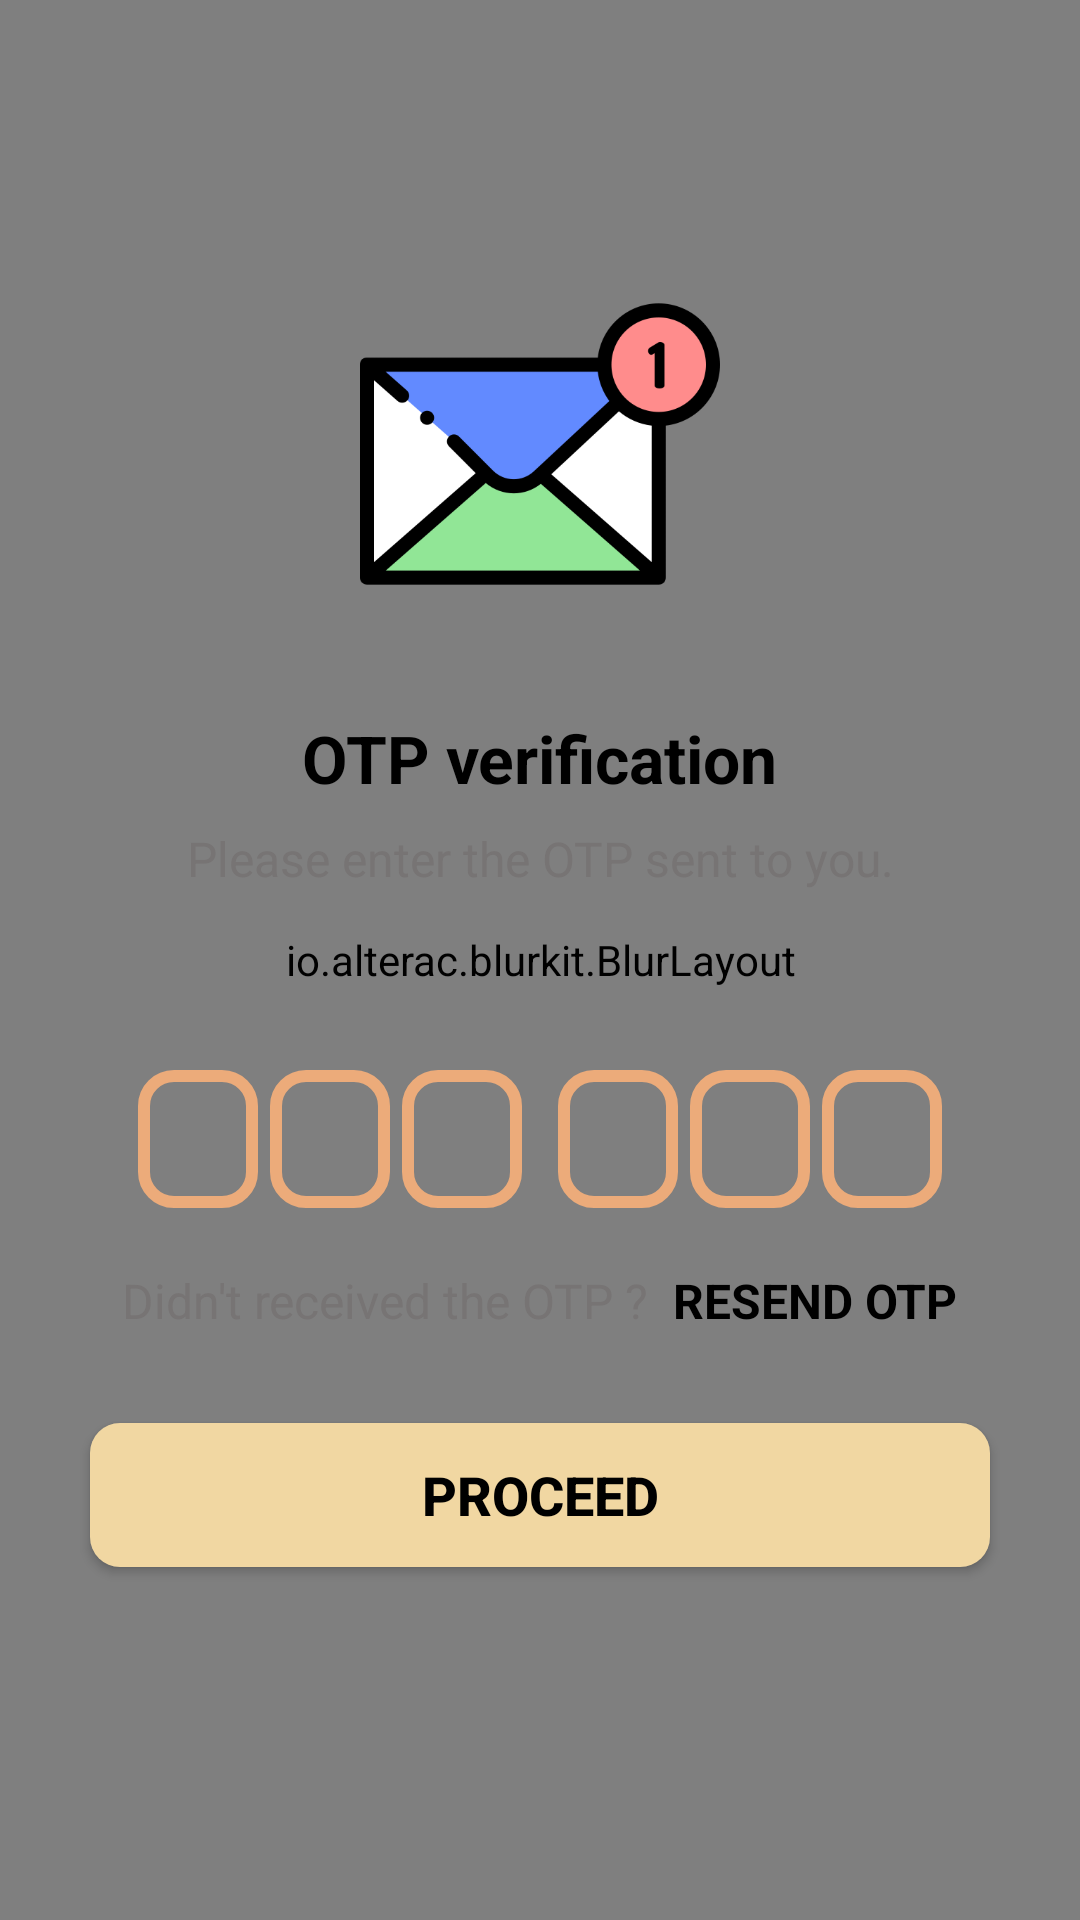

Locate icon controls on the screen. Image size 1080 × 1920, boxes as region(x1, y1, x2, y2).
message: region(360, 303, 720, 585)
